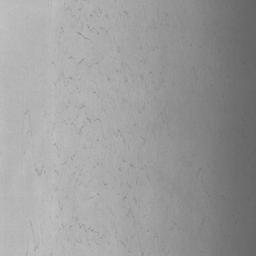Silk spot: (35, 166, 46, 176)
